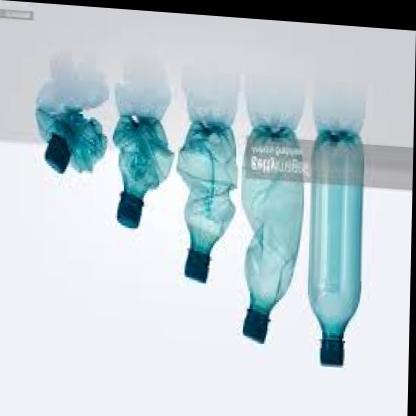Plastic: (303, 101, 390, 374), (233, 97, 310, 344), (28, 65, 113, 218), (180, 101, 244, 291), (109, 76, 182, 242)
